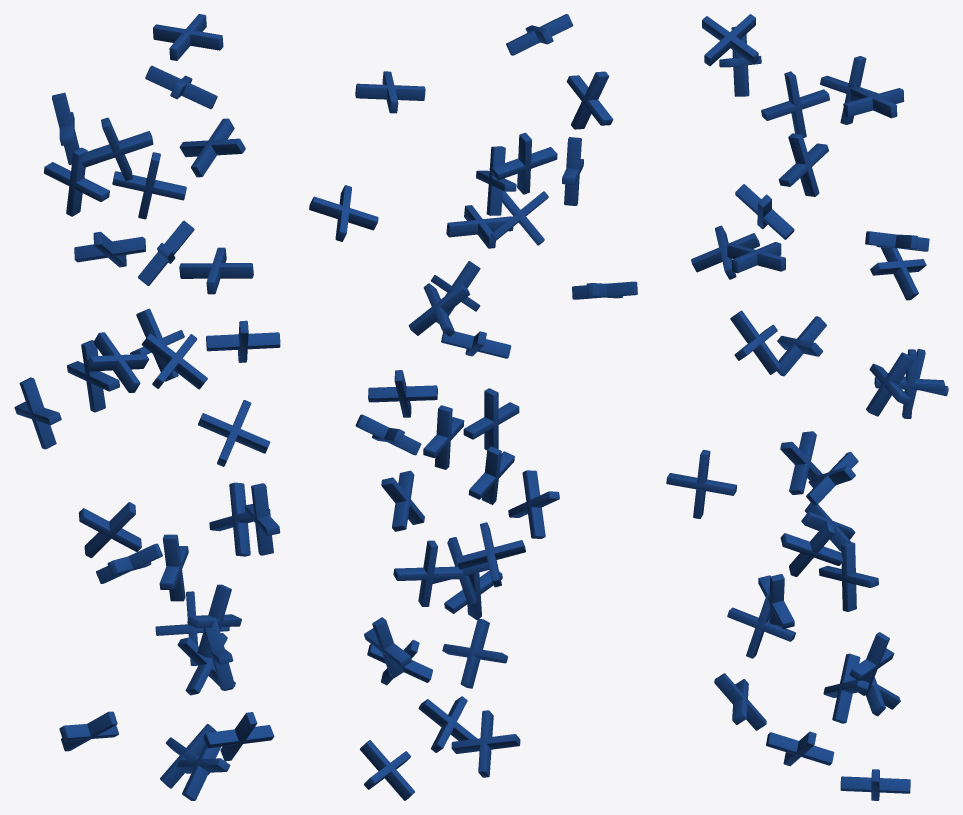
The model's file is REV-COL-006_anim.glb.
The picture shows the model from 3 angles, left to right: view 1: azimuth 30°, elevation 25°; view 2: azimuth 150°, elevation 25°; view 3: azimuth 270°, elevation 25°; orthographic projection. The views are drawn at different scales.
Visible parts, largest first — view 1: REV-COL-006_anim11, REV-COL-006_anim19, REV-COL-006_anim25, REV-COL-006_anim23, REV-COL-006_anim27, REV-COL-006_anim28, REV-COL-006_anim17, REV-COL-006_anim3, REV-COL-006_anim13, REV-COL-006_anim21, REV-COL-006_anim24, REV-COL-006_anim14 (+18 smaller); view 2: REV-COL-006_anim26, REV-COL-006_anim27, REV-COL-006_anim2, REV-COL-006_anim8, REV-COL-006_anim20, REV-COL-006_anim3, REV-COL-006_anim23, REV-COL-006_anim11, REV-COL-006_anim12, REV-COL-006_anim9, REV-COL-006_anim10, REV-COL-006_anim16 (+18 smaller); view 3: REV-COL-006_anim10, REV-COL-006_anim24, REV-COL-006_anim29, REV-COL-006_anim8, REV-COL-006_anim25, REV-COL-006_anim16, REV-COL-006_anim12, REV-COL-006_anim18, REV-COL-006_anim11, REV-COL-006_anim1, REV-COL-006_anim28, REV-COL-006_anim17 (+17 smaller).
Boxes of the visible parts, bbox=[...] form: REV-COL-006_anim11: bbox=[78, 502, 141, 558]; REV-COL-006_anim19: bbox=[84, 332, 149, 392]; REV-COL-006_anim25: bbox=[43, 147, 109, 216]; REV-COL-006_anim23: bbox=[179, 118, 245, 177]; REV-COL-006_anim27: bbox=[80, 117, 153, 180]; REV-COL-006_anim28: bbox=[153, 14, 223, 60]; REV-COL-006_anim17: bbox=[141, 333, 207, 389]; REV-COL-006_anim3: bbox=[203, 712, 274, 761]; REV-COL-006_anim13: bbox=[198, 400, 270, 466]; REV-COL-006_anim21: bbox=[179, 247, 253, 294]; REV-COL-006_anim24: bbox=[112, 152, 186, 219]; REV-COL-006_anim14: bbox=[14, 377, 61, 449]; REV-COL-006_anim26: bbox=[491, 132, 557, 194]; REV-COL-006_anim27: bbox=[566, 71, 613, 129]; REV-COL-006_anim2: bbox=[451, 710, 520, 777]; REV-COL-006_anim8: bbox=[393, 540, 462, 606]; REV-COL-006_anim20: bbox=[408, 283, 470, 336]; REV-COL-006_anim3: bbox=[442, 618, 507, 688]; REV-COL-006_anim23: bbox=[309, 185, 378, 241]; REV-COL-006_anim11: bbox=[508, 470, 559, 538]; REV-COL-006_anim12: bbox=[463, 388, 519, 450]; REV-COL-006_anim9: bbox=[456, 522, 525, 587]; REV-COL-006_anim10: bbox=[381, 470, 424, 531]; REV-COL-006_anim16: bbox=[368, 370, 437, 417]; REV-COL-006_anim10: bbox=[780, 522, 842, 576]; REV-COL-006_anim24: bbox=[778, 133, 828, 196]; REV-COL-006_anim29: bbox=[702, 14, 758, 66]; REV-COL-006_anim8: bbox=[819, 541, 878, 611]; REV-COL-006_anim25: bbox=[761, 71, 829, 137]; REV-COL-006_anim16: bbox=[866, 352, 914, 416]; REV-COL-006_anim12: bbox=[666, 449, 736, 518]; REV-COL-006_anim18: bbox=[730, 310, 781, 374]; REV-COL-006_anim11: bbox=[780, 431, 822, 494]; REV-COL-006_anim1: bbox=[766, 731, 834, 766]; REV-COL-006_anim28: bbox=[843, 87, 904, 118]; REV-COL-006_anim17: bbox=[777, 316, 826, 376].
Size of the model in its own units: 0.1008 by 0.3072 by 0.1051.
1 material, 1 textured.
